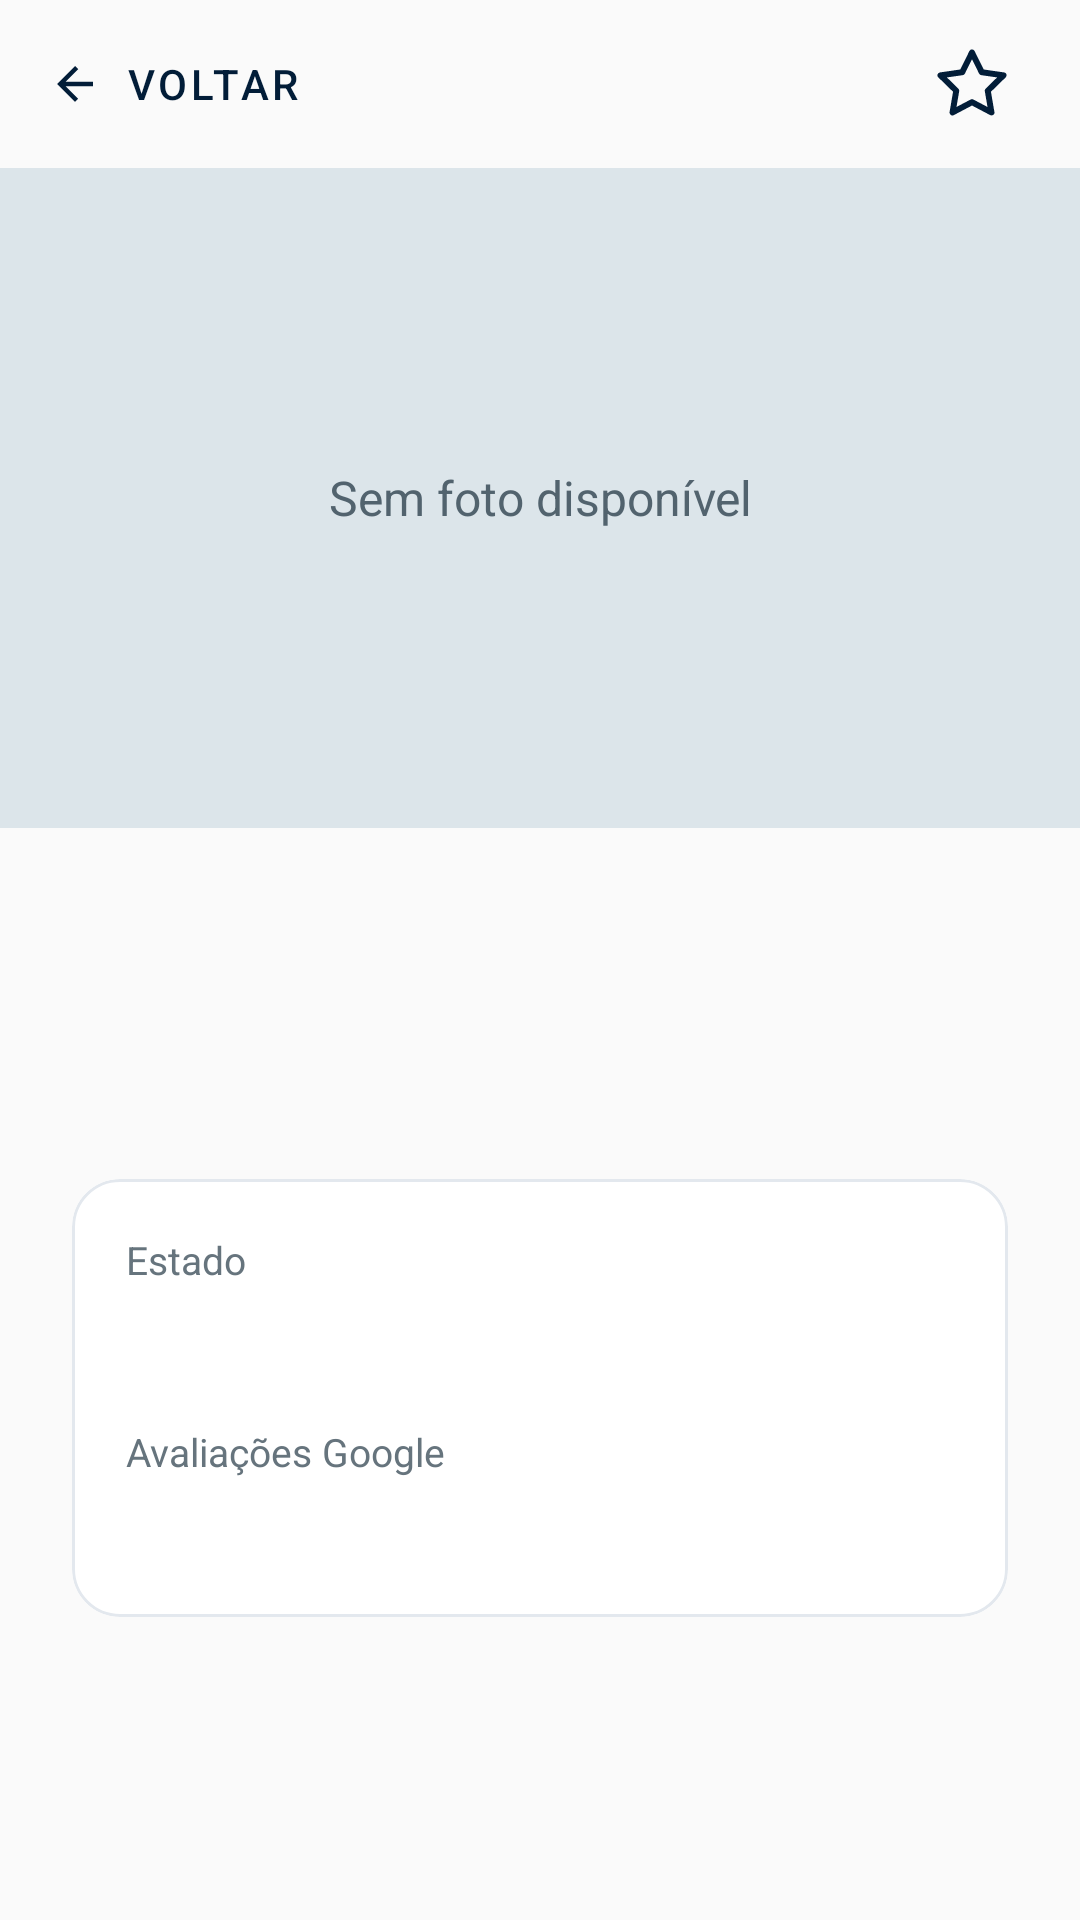

Icon bounding boxes for this 1080x1920 phone screenshot, format BBox(x1, y1, x2, y2):
Adicionar aos favoritos: BBox(937, 49, 1007, 116)
